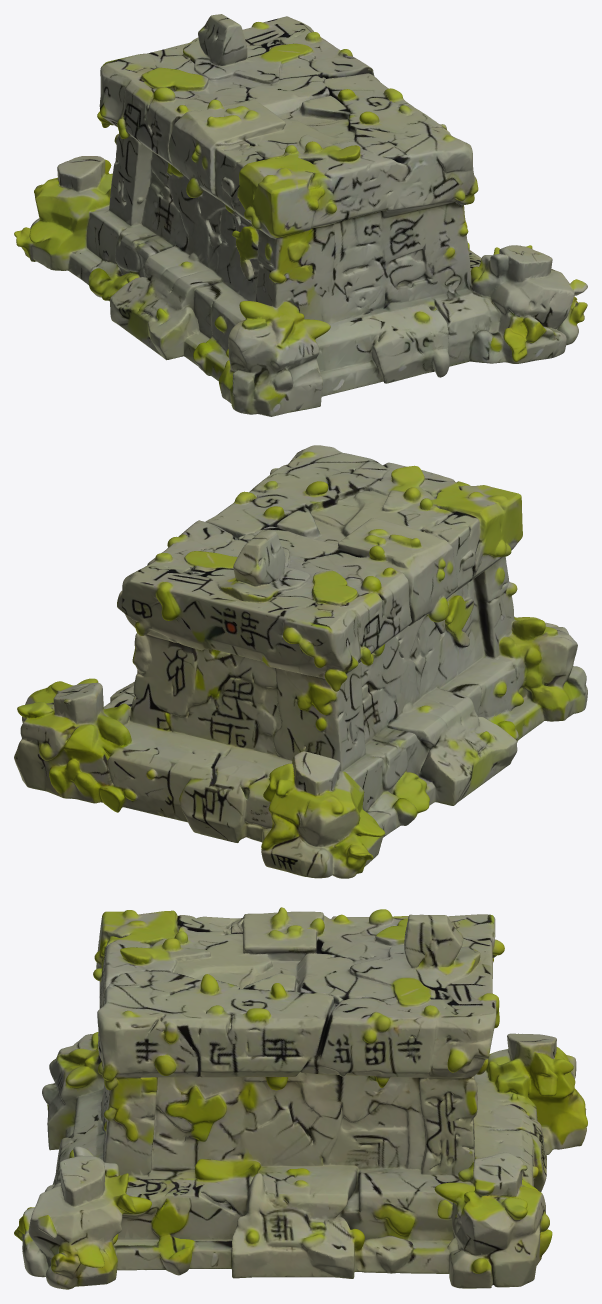
File: ruin_altar.glb
The picture shows the model from 3 angles, top to bottom: view 1: azimuth 30°, elevation 25°; view 2: azimuth 150°, elevation 25°; view 3: azimuth 270°, elevation 25°; orthographic projection. The views are drawn at different scales.
Parts seen in each view (by area): view 1: tripo_node_b00046ee-0828-4027-8526-d624b12e41bb; view 2: tripo_node_b00046ee-0828-4027-8526-d624b12e41bb; view 3: tripo_node_b00046ee-0828-4027-8526-d624b12e41bb.
Part boxes in pixels (bbox=[...]): tripo_node_b00046ee-0828-4027-8526-d624b12e41bb: bbox=[14, 14, 587, 416]; tripo_node_b00046ee-0828-4027-8526-d624b12e41bb: bbox=[14, 445, 587, 878]; tripo_node_b00046ee-0828-4027-8526-d624b12e41bb: bbox=[14, 907, 587, 1289].
Bounding box in the file's own units: 0.797 × 0.5266 × 1.
Materials: 1 (1 with a texture image).
